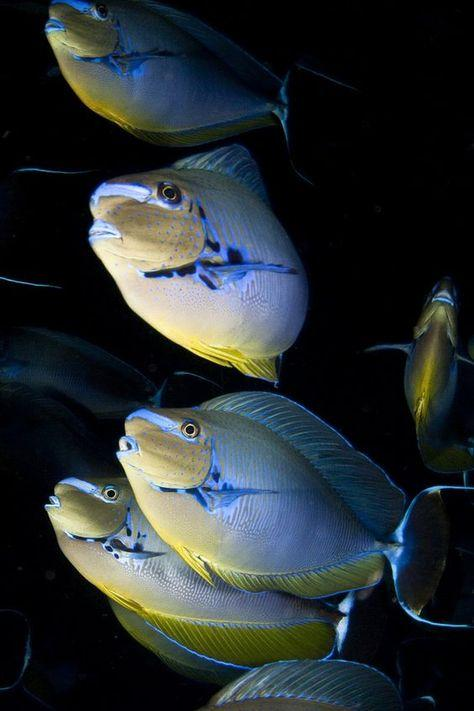fish: (114, 389, 471, 628), (43, 474, 352, 683), (86, 142, 310, 387), (42, 0, 304, 141), (362, 274, 473, 475), (203, 662, 441, 711)
